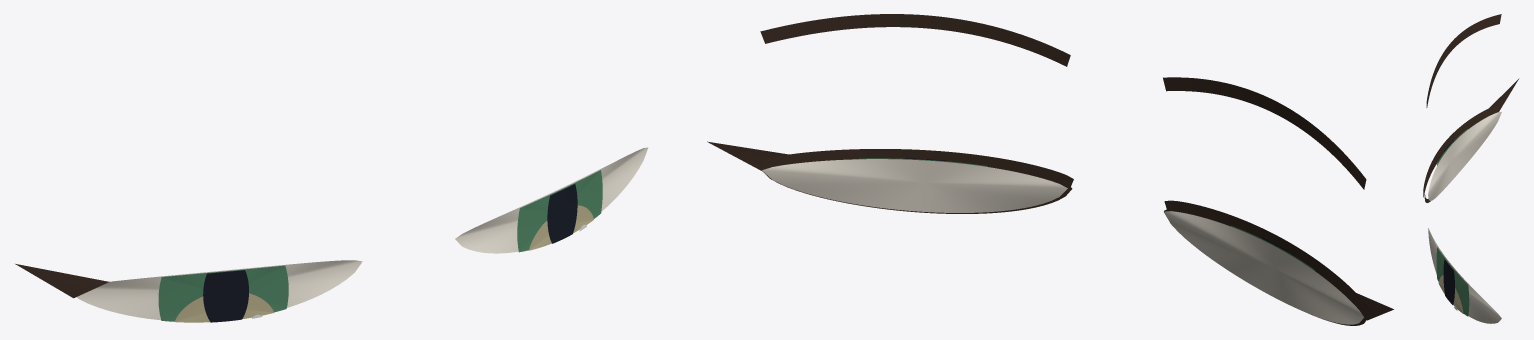
3 renders of one model, left to right at view 1: azimuth 30°, elevation 25°; view 2: azimuth 150°, elevation 25°; view 3: azimuth 270°, elevation 25°, orthographic. The views are drawn at different scales.
Parts seen in each view (by area): view 1: Eye_White_-1, Eye_White_1, Eye_Iris_-1, Eye_Pupil_-1, Eye_Iris_1, Eye_Pupil_1, Eye_LashWing_-1, Eye_Iris_Light_-1, Eye_Iris_Light_1; view 2: Eye_White_1, Eye_White_-1, Eyebrow_1, Eye_UpperLid_1, Eyebrow_-1, Eye_UpperLid_-1, Eye_LashWing_1, Eye_LowerLid_1; view 3: Eye_White_-1, Eye_White_1, Eyebrow_-1, Eye_UpperLid_-1, Eye_Iris_1, Eye_Pupil_1, Eye_Iris_Light_1, Eye_LashWing_-1.
Part boxes in pixels (x1,y1,x2,y2): Eye_White_-1: (76, 260, 362, 320); Eye_White_1: (455, 147, 648, 253); Eye_Iris_-1: (158, 265, 288, 321); Eye_Pupil_-1: (203, 270, 248, 322); Eye_Iris_1: (517, 170, 602, 252); Eye_Pupil_1: (547, 184, 577, 243); Eye_LashWing_-1: (15, 264, 108, 298); Eye_Iris_Light_-1: (175, 293, 274, 322); Eye_Iris_Light_1: (529, 205, 593, 250); Eye_White_1: (762, 159, 1067, 212); Eye_White_-1: (1164, 211, 1364, 324); Eyebrow_1: (760, 14, 1070, 66); Eye_UpperLid_1: (761, 149, 1073, 186); Eyebrow_-1: (1163, 77, 1366, 189); Eye_UpperLid_-1: (1164, 200, 1369, 315); Eye_LashWing_1: (707, 141, 788, 171); Eye_LowerLid_1: (761, 167, 1072, 213); Eye_White_-1: (1428, 112, 1501, 200); Eye_White_1: (1428, 228, 1501, 323); Eyebrow_-1: (1426, 14, 1501, 107); Eye_UpperLid_-1: (1423, 105, 1498, 197); Eye_Iris_1: (1436, 247, 1469, 316); Eye_Pupil_1: (1443, 259, 1454, 304); Eye_Iris_Light_1: (1438, 275, 1463, 313); Eye_LashWing_-1: (1489, 78, 1519, 111).
Size of the model in its own units: 0.418 by 0.1154 by 0.0723.
